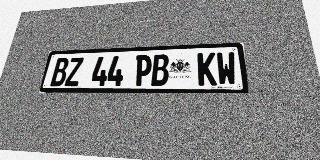4: (90, 56, 110, 86), (106, 56, 125, 86)
B: (151, 54, 169, 86), (50, 58, 70, 86)
K: (197, 52, 217, 86)
P: (134, 55, 152, 86)
W: (216, 52, 237, 85)
Z: (64, 57, 84, 86)
